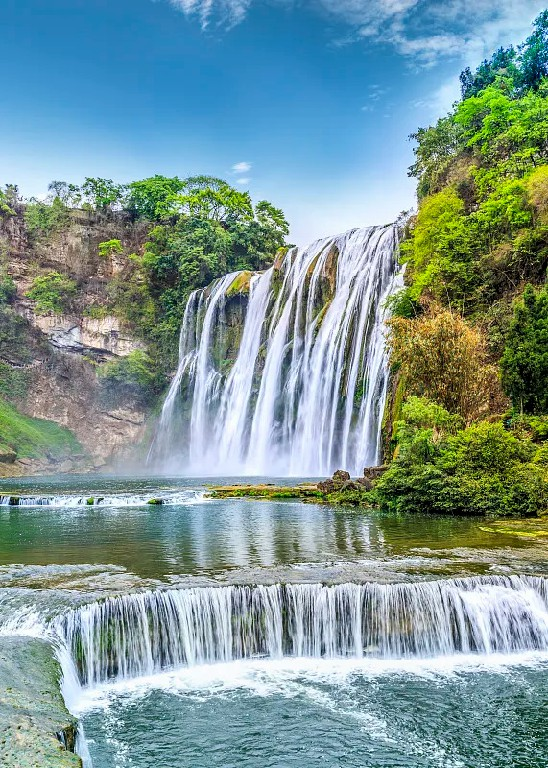Huangguoshu: (163, 219, 395, 476)
